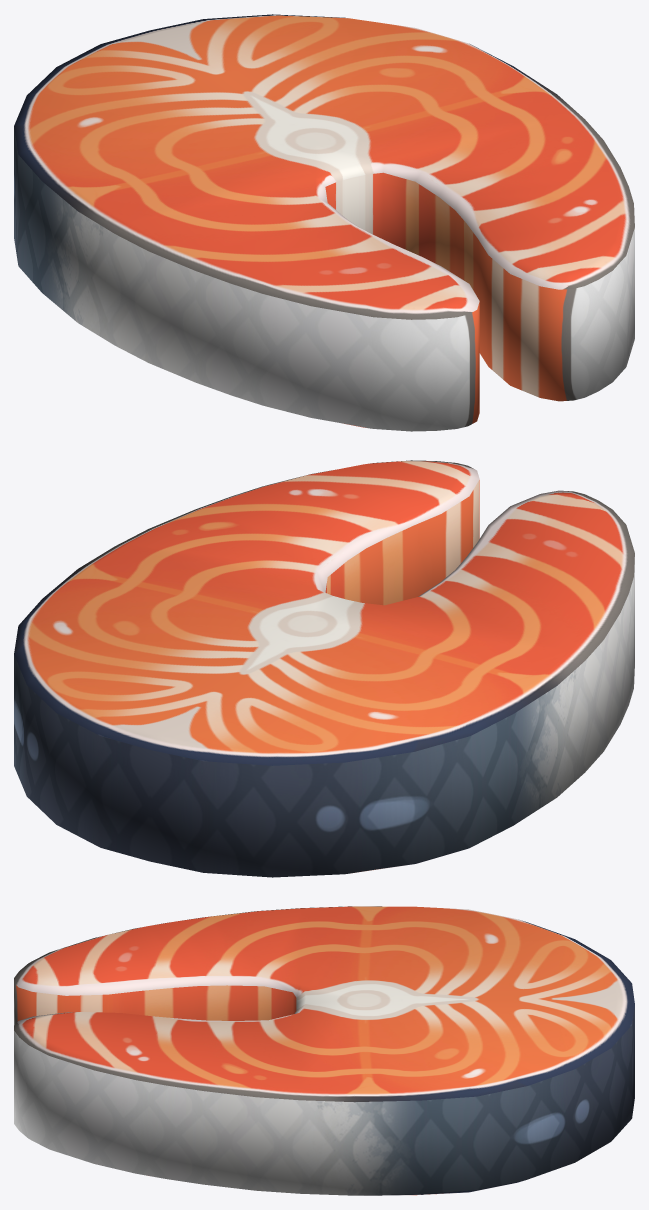
File: Salmon.FBX
3 renders of one model, top to bottom at view 1: azimuth 30°, elevation 25°; view 2: azimuth 150°, elevation 25°; view 3: azimuth 270°, elevation 25°, orthographic. The views are drawn at different scales.
Visible parts, largest first — view 1: Line001; view 2: Line001; view 3: Line001.
Part boxes in pixels (x1,y1,x2,y2): Line001: (14,14,634,431); Line001: (14,460,634,877); Line001: (14,906,634,1195).
Size of the model in its own units: 10.87 by 14.56 by 2.71.
